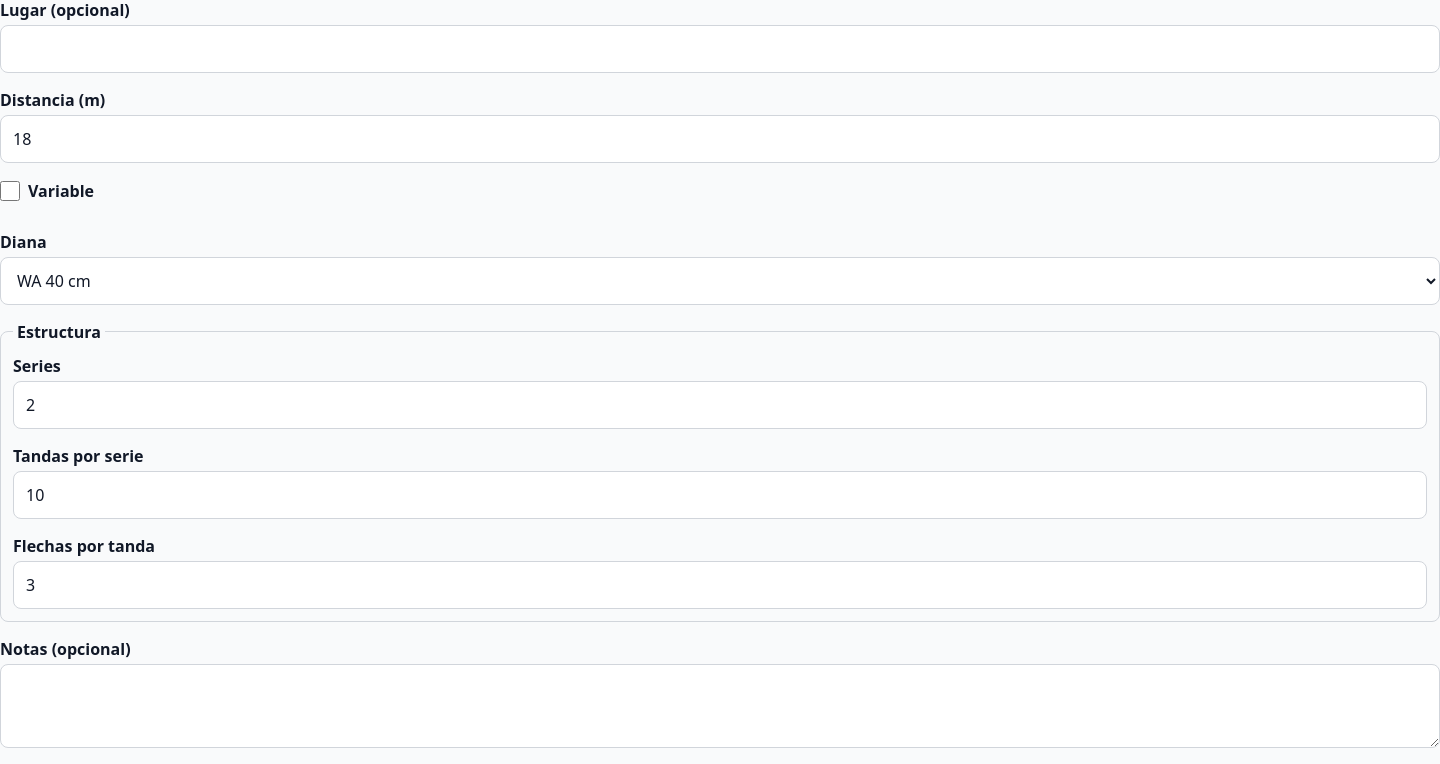
Scenario: NewSessionView form › ns-series = 0 shows ns-seriesCount-error «Entre 1 y 20 series» and disables «Crear»
Replace the text in the field labelled "Series" with "0" at (720, 405), box [13,381,1427,429]
(page scrolled)
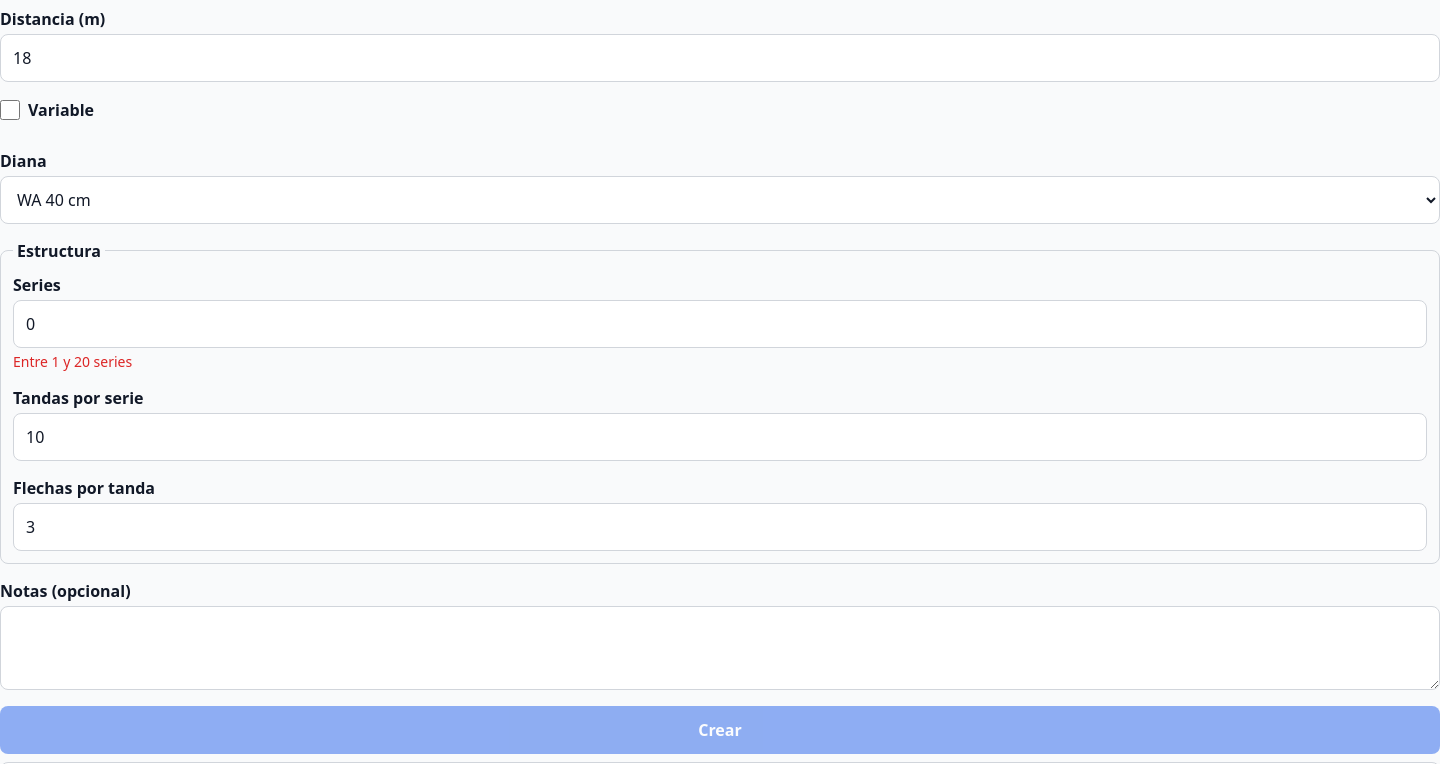
Check: the submit button is disabled, box [0,706,1439,754]
